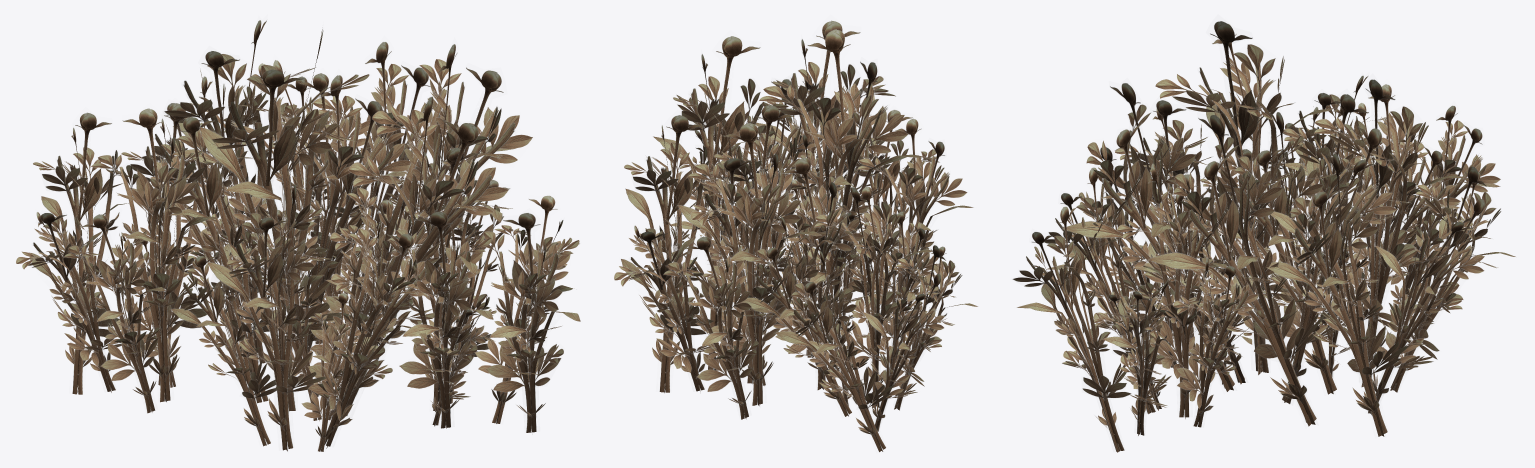
The model's file is flowers.glb.
3 views of the same model, side by side, from view 1: azimuth 30°, elevation 25°; view 2: azimuth 150°, elevation 25°; view 3: azimuth 270°, elevation 25° (orthographic). The views are drawn at different scales.
Visible parts, largest first — view 1: SM_peony; view 2: SM_peony; view 3: SM_peony.
Part boxes in pixels (x1=…): SM_peony: x1=16, y1=20, x2=580, y2=451; SM_peony: x1=614, y1=20, x2=978, y2=452; SM_peony: x1=1012, y1=21, x2=1515, y2=452.
Bounding box in the file's own units: 1.14 × 0.9971 × 1.24.
1 material, 1 textured.
